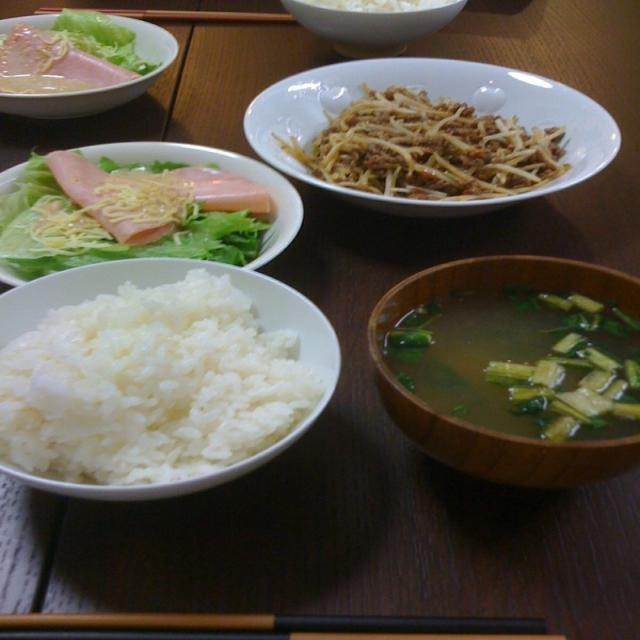Rice: (19, 274, 307, 478)
